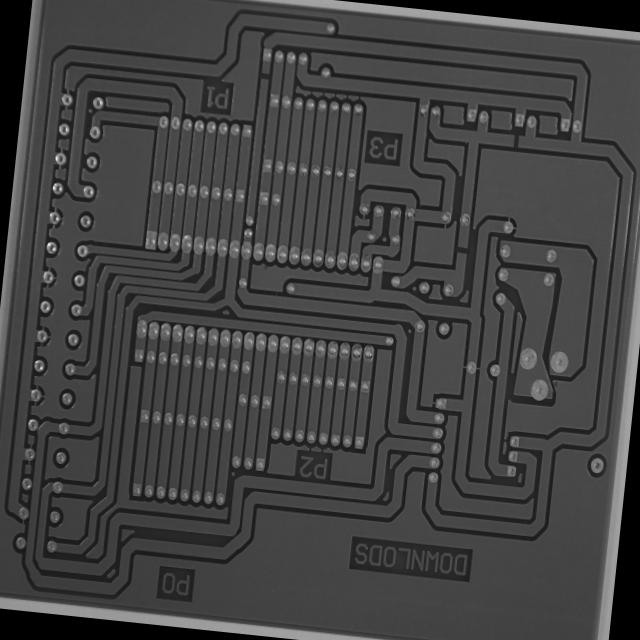open_circuit: (452, 242, 472, 258), (508, 131, 524, 150), (258, 66, 272, 84)
